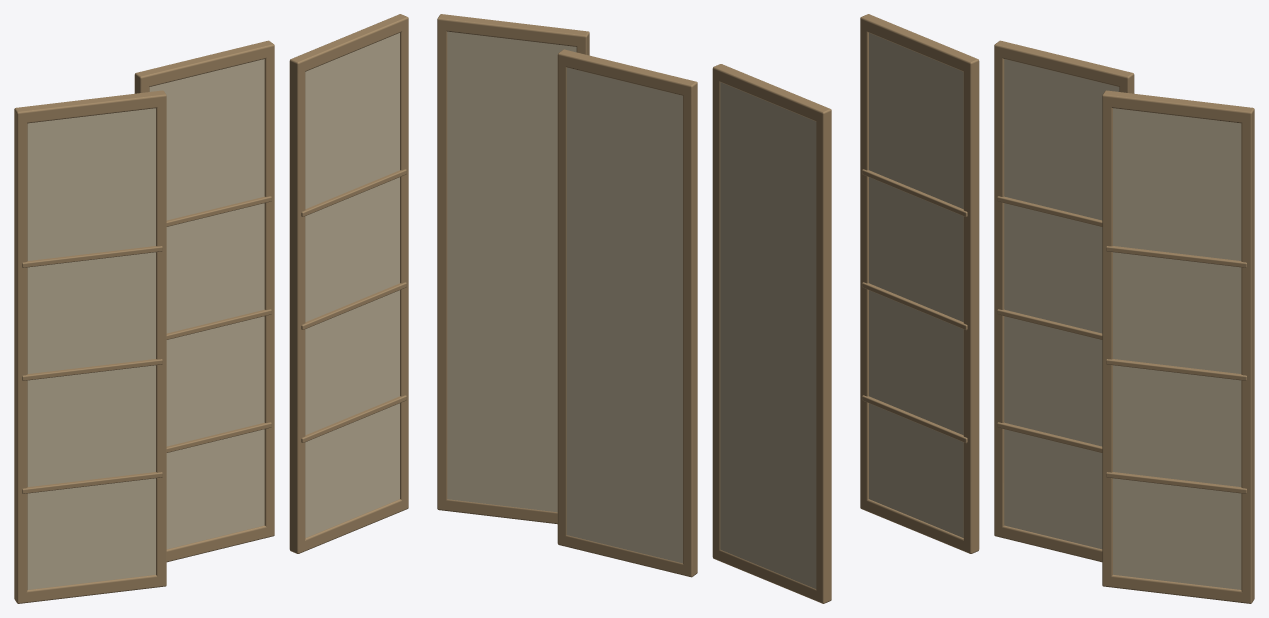
File: screen.glb
3 renders of one model, left to right at view 1: azimuth 30°, elevation 25°; view 2: azimuth 150°, elevation 25°; view 3: azimuth 330°, elevation 25°, orthographic.
Visible parts, largest first — view 1: panel-0-inset, panel-1-inset, panel-2-inset, panel-2-stile--1, panel-0-stile--1, panel-0-stile-1, panel-1-stile-1, panel-2-stile-1, panel-0-rail-1, panel-1-rail-1, panel-2-rail-1, panel-0-rail--1 (+11 smaller); view 2: panel-1-inset, panel-2-inset, panel-0-inset, panel-0-stile--1, panel-1-stile--1, panel-2-stile-1, panel-1-stile-1, panel-0-stile-1, panel-2-rail-1, panel-1-rail-1, panel-0-rail-1, panel-1-rail--1 (+2 smaller); view 3: panel-2-inset, panel-1-inset, panel-0-inset, panel-0-stile-1, panel-2-stile-1, panel-2-stile--1, panel-1-stile--1, panel-0-stile--1, panel-2-rail-1, panel-1-rail-1, panel-0-rail-1, panel-2-rail--1 (+11 smaller).
Part boxes in pixels (left/top/right/bottom): panel-0-inset: left=27, top=108, right=155, bottom=589; panel-1-inset: left=149, top=59, right=264, bottom=549; panel-2-inset: left=305, top=33, right=399, bottom=537; panel-2-stile--1: left=289, top=57, right=305, bottom=553; panel-0-stile--1: left=14, top=107, right=27, bottom=603; panel-0-stile-1: left=155, top=90, right=166, bottom=584; panel-1-stile-1: left=262, top=40, right=274, bottom=537; panel-2-stile-1: left=395, top=14, right=408, bottom=509; panel-0-rail-1: left=14, top=91, right=166, bottom=123; panel-1-rail-1: left=134, top=41, right=274, bottom=87; panel-2-rail-1: left=290, top=16, right=408, bottom=72; panel-0-rail--1: left=14, top=574, right=166, bottom=603; panel-1-inset: left=566, top=67, right=682, bottom=563; panel-2-inset: left=447, top=31, right=576, bottom=512; panel-0-inset: left=720, top=82, right=816, bottom=588; panel-0-stile--1: left=816, top=106, right=831, bottom=603; panel-1-stile--1: left=683, top=80, right=697, bottom=577; panel-2-stile-1: left=437, top=14, right=448, bottom=509; panel-1-stile-1: left=557, top=49, right=570, bottom=545; panel-0-stile-1: left=712, top=64, right=726, bottom=560; panel-2-rail-1: left=437, top=14, right=589, bottom=46; panel-1-rail-1: left=557, top=51, right=697, bottom=96; panel-0-rail-1: left=712, top=66, right=831, bottom=122; panel-1-rail--1: left=557, top=534, right=697, bottom=576; panel-2-inset: left=1113, top=108, right=1241, bottom=589; panel-1-inset: left=1004, top=59, right=1119, bottom=549; panel-0-inset: left=869, top=33, right=963, bottom=537; panel-0-stile-1: left=963, top=57, right=979, bottom=553; panel-2-stile-1: left=1241, top=107, right=1254, bottom=602; panel-2-stile--1: left=1102, top=90, right=1113, bottom=586; panel-1-stile--1: left=994, top=40, right=1006, bottom=537; panel-0-stile--1: left=860, top=14, right=873, bottom=510; panel-2-rail-1: left=1102, top=91, right=1253, bottom=123; panel-1-rail-1: left=994, top=42, right=1134, bottom=86; panel-0-rail-1: left=860, top=16, right=978, bottom=72; panel-2-rail--1: left=1102, top=574, right=1254, bottom=603.
Bounding box in the file's own units: 1.42 × 1.71 × 0.1964.
